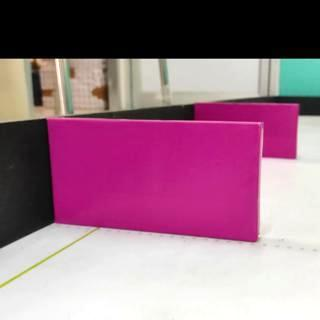xparking: (54, 120, 261, 242), (262, 105, 296, 155)
